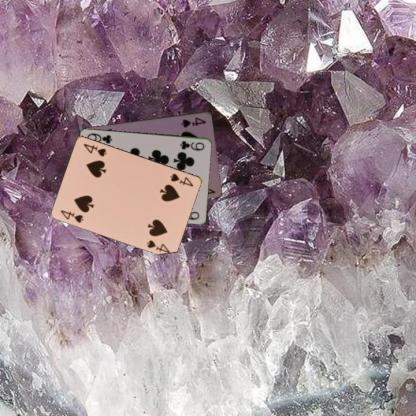4s: (168, 170, 194, 188), (179, 114, 208, 129), (58, 208, 85, 224)
9c: (177, 138, 206, 152)
